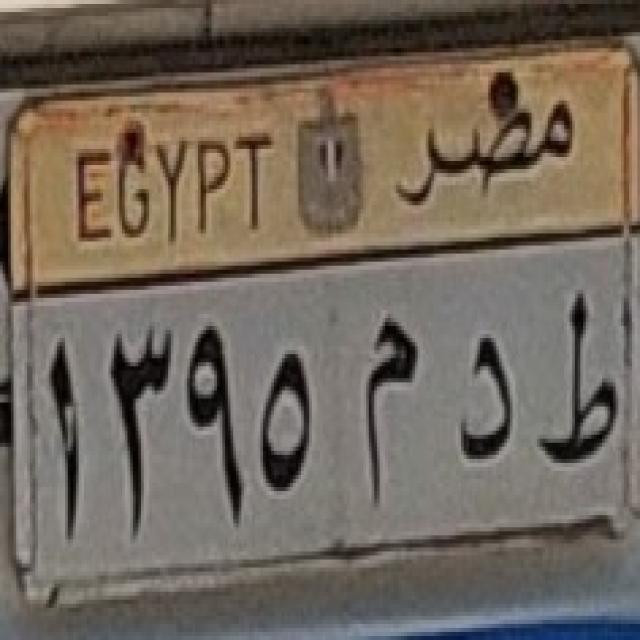1: (43, 324, 101, 564)
3: (104, 316, 176, 553)
5: (254, 344, 320, 504)
9: (181, 324, 251, 538)
Meem: (354, 312, 420, 518)
Taa: (532, 290, 630, 482)
daal: (456, 320, 522, 474)
